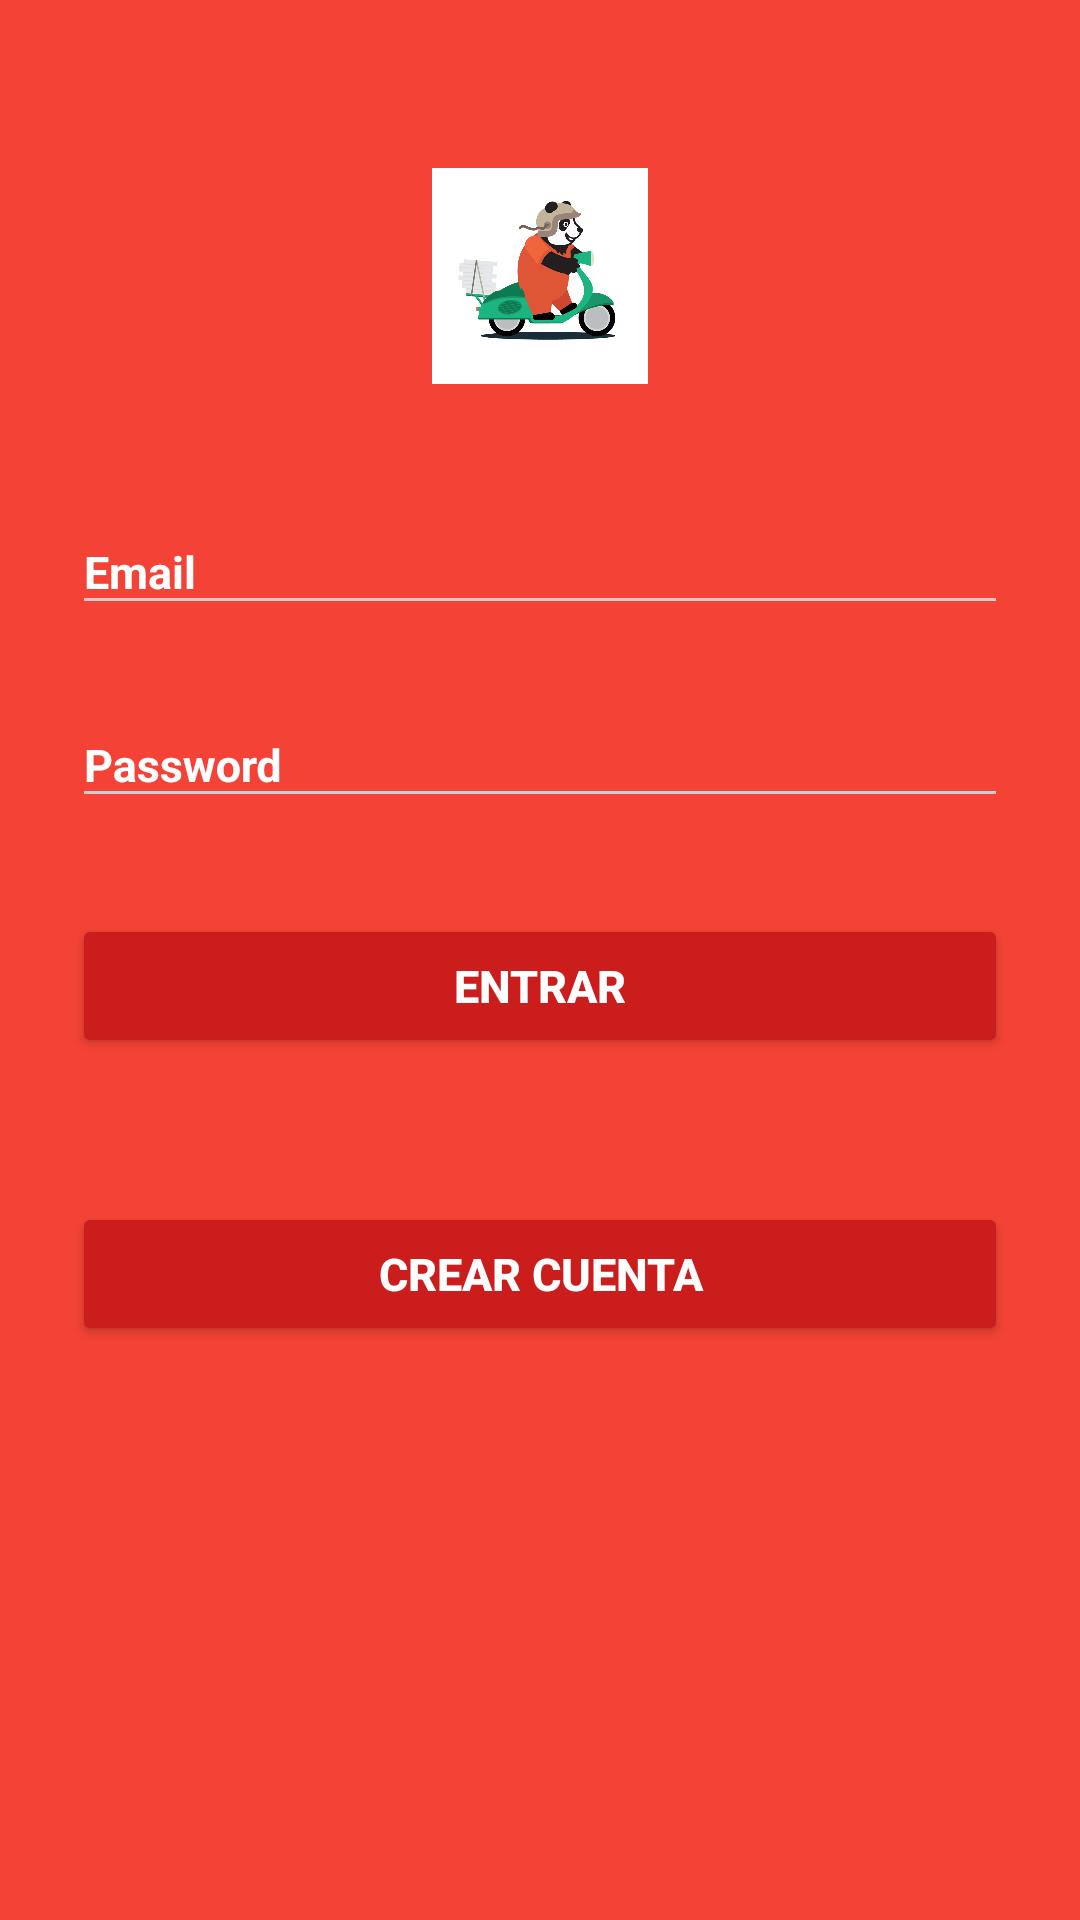

Where icons sit on this 1080×1920 app screen, as (x1, y1, x2, y2):
delivery: (432, 168, 648, 384)
